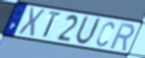2: (55, 14, 79, 43)
C: (95, 21, 115, 48)
R: (109, 22, 137, 52)
T: (41, 10, 63, 40)
U: (73, 14, 102, 47)
X: (16, 6, 47, 38)
